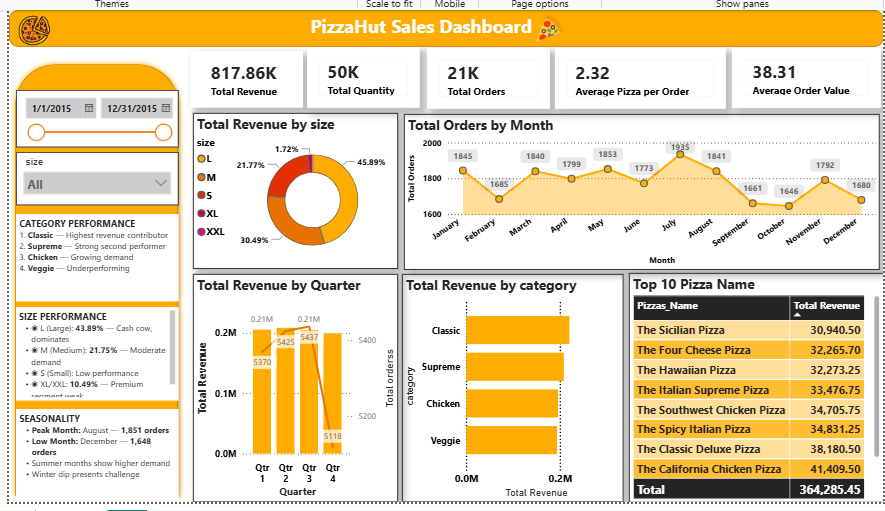

This screenshot's page, from the dashboard's own definition file:
{"tool":"powerbi","page":{"name":"home","canvas":[1280,720],"ordinal":0},"visuals":[{"type":"barChart","fields":{"Category":["pizza_types.category"],"Y":["order_details.Total Revenue"]},"box":[575.1,386.1,323.8,333.9],"z":0},{"type":"cardVisual","fields":{"Data":["order_details.Total Revenue"]},"box":[266.5,60.7,163.6,82.6],"z":1000},{"type":"tableEx","title":"Top 10 Pizza Name","fields":{"Values":["pizza_types.name","order_details.Total Revenue"]},"box":[907.3,384.4,372.7,335.6],"z":2000},{"type":"donutChart","fields":{"Y":["order_details.Total Revenue"],"Category":["pizzas.size"]},"box":[269.8,150.1,300.2,227.7],"z":3000},{"type":"lineChart","fields":{"Category":["orders.date.Variation.Date Hierarchy.Year","orders.date.Variation.Date Hierarchy.Quarter","orders.date.Variation.Date Hierarchy.Month","orders.date.Variation.Date Hierarchy.Day"],"Y":["order_details.Total Orders"]},"box":[578.4,151.8,696.5,227.7],"z":4000},{"type":"shape","box":[0,0,1280,54],"z":5000},{"type":"lineStackedColumnComboChart","title":"Total Revenue by Quarter","fields":{"Category":["orders.date.Variation.Date Hierarchy.Year","orders.date.Variation.Date Hierarchy.Quarter","orders.date.Variation.Date Hierarchy.Month","orders.date.Variation.Date Hierarchy.Day"],"Y":["order_details.Total Revenue"],"Y2":["order_details.Total orderss"]},"box":[269.8,386.2,300.2,333.9],"z":6000},{"type":"shape","box":[0,70.8,256.3,649.3],"z":7000},{"type":"cardVisual","fields":{"Data":["order_details.Total Quantity"]},"box":[436.8,54,165.3,89.4],"z":8000},{"type":"cardVisual","fields":{"Data":["order_details.Total Orders"]},"box":[612.2,55.7,180.4,89.4],"z":9000},{"type":"cardVisual","fields":{"Data":["order_details.Average Pizza per Order"]},"box":[799.4,55.7,249.6,89.4],"z":10000},{"type":"cardVisual","fields":{"Data":["order_details.Average Order Value"]},"box":[1057.4,55.7,217.5,87.7],"z":11000},{"type":"slicer","fields":{"Values":["orders.date"]},"box":[10.1,116.4,237.8,84.3],"z":12000},{"type":"slicer","fields":{"Values":["pizzas.size"]},"box":[10.1,207.4,237.8,77.6],"z":13000},{"type":"textbox","box":[436.8,0,431.7,54],"z":14000},{"type":"image","box":[737.3,0,108,53.3],"z":15000},{"type":"image","box":[0,0,75.9,54],"z":16000},{"type":"textbox","box":[10.1,435.1,237.8,136.6],"z":17000},{"type":"textbox","box":[10.1,583.5,237.8,136.6],"z":18000},{"type":"textbox","box":[10.1,298.5,237.8,128.2],"z":19000}]}

Visuals, with their boxes in screenshot pixels (x1, y1, x2, y2):
barChart - pizza_types.category x order_details.Total Revenue: box=[397, 270, 618, 498]
cardVisual - order_details.Total Revenue: box=[186, 48, 298, 105]
"Top 10 Pizza Name" tableEx: box=[623, 269, 877, 498]
donutChart - order_details.Total Revenue x pizzas.size: box=[189, 109, 393, 265]
lineChart - orders.date.Variation.Date Hierarchy.Year x orders.date.Variation.Date Hierarchy.Quarter: box=[399, 110, 874, 266]
shape: box=[5, 7, 877, 44]
"Total Revenue by Quarter" lineStackedColumnComboChart: box=[189, 270, 393, 498]
shape: box=[5, 55, 179, 498]
cardVisual - order_details.Total Quantity: box=[302, 44, 415, 105]
cardVisual - order_details.Total Orders: box=[422, 45, 545, 106]
cardVisual - order_details.Average Pizza per Order: box=[550, 45, 720, 106]
cardVisual - order_details.Average Order Value: box=[726, 45, 874, 105]
slicer - orders.date: box=[11, 86, 174, 144]
slicer - pizzas.size: box=[11, 148, 174, 201]
textbox: box=[302, 7, 597, 44]
image: box=[507, 7, 581, 43]
image: box=[5, 7, 56, 44]
textbox: box=[11, 304, 174, 397]
textbox: box=[11, 405, 174, 498]
textbox: box=[11, 210, 174, 298]
